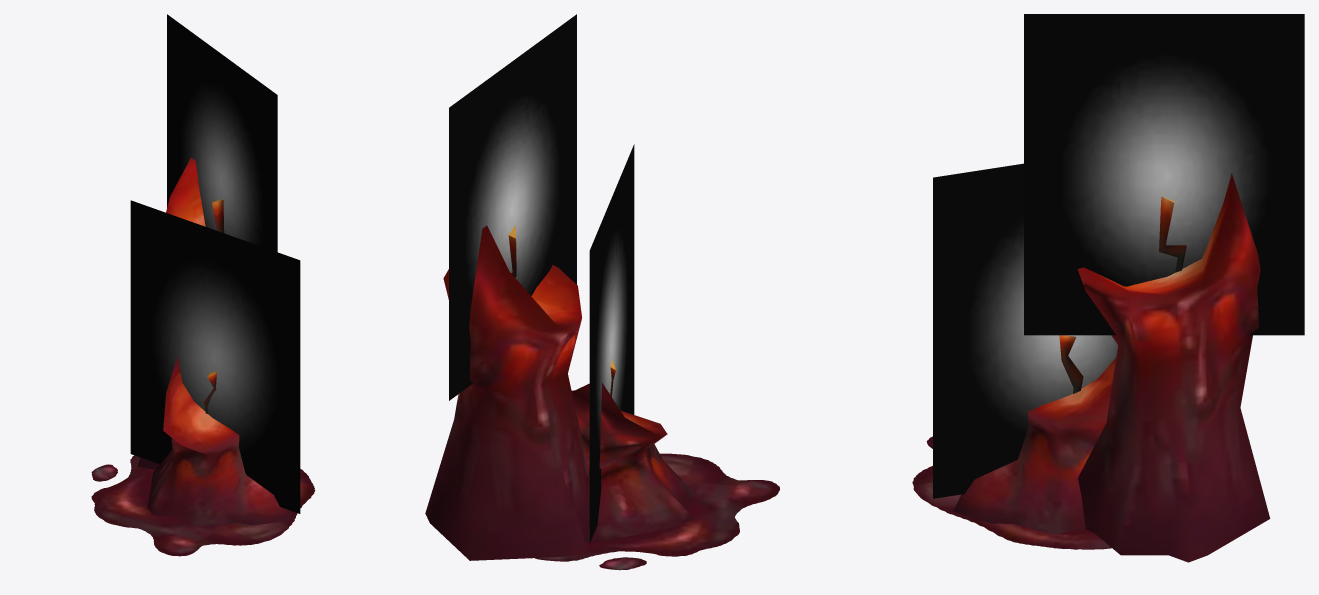
3 renders of one model, left to right at view 1: azimuth 30°, elevation 25°; view 2: azimuth 150°, elevation 25°; view 3: azimuth 270°, elevation 25°, orthographic. The views are drawn at different scales.
Size of the model in its own units: 1.35 by 1.68 by 1.39.
Materials: 2 (2 with a texture image).
